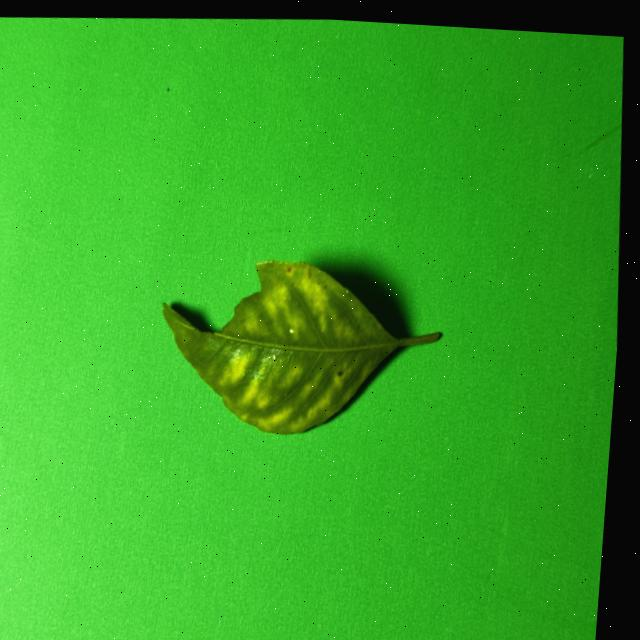greening: (164, 260, 441, 433)
